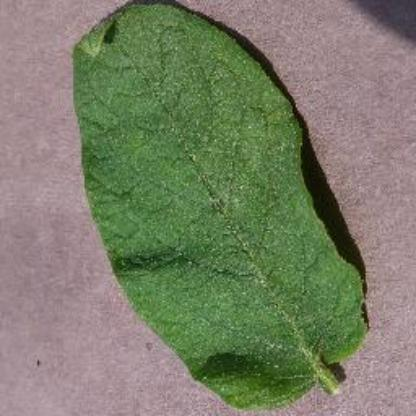Healthy-plant: (68, 2, 372, 404)
